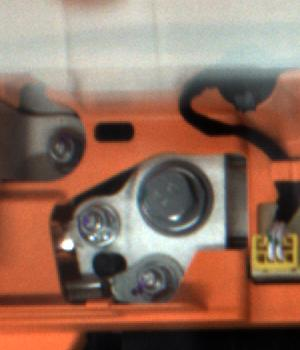nut_b: (132, 155, 224, 237)
